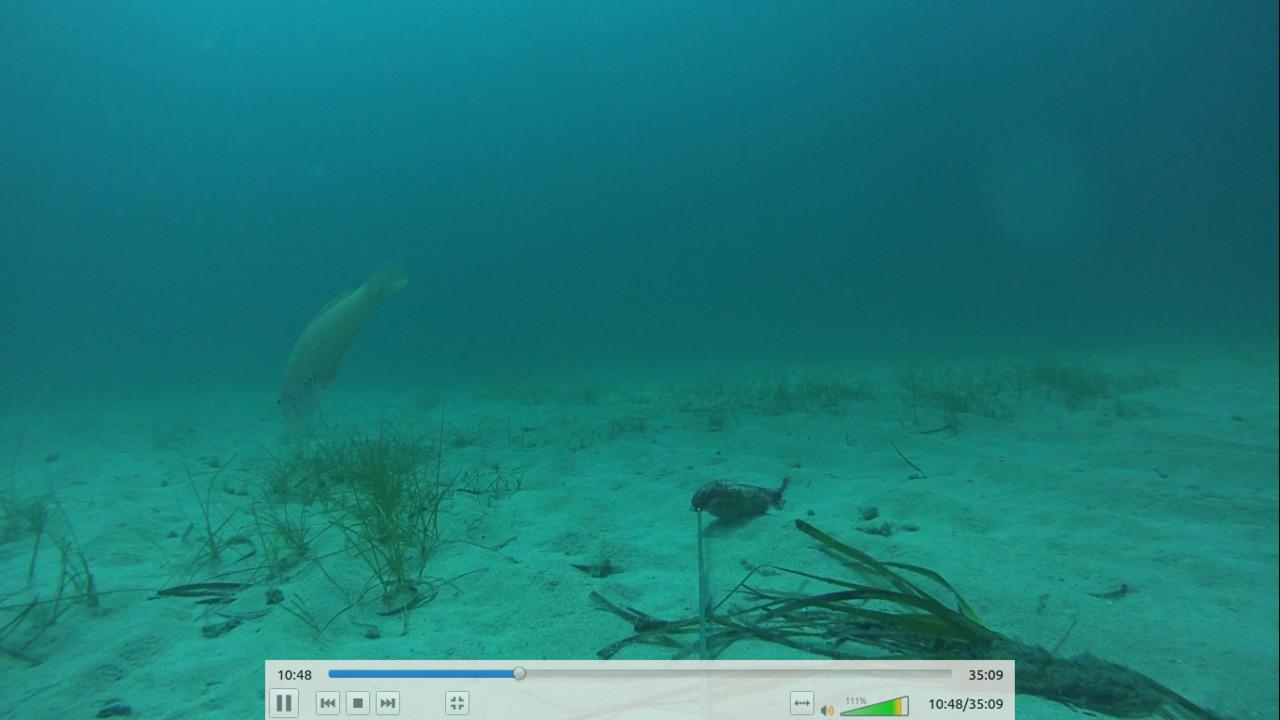raor: (267, 250, 412, 429)
